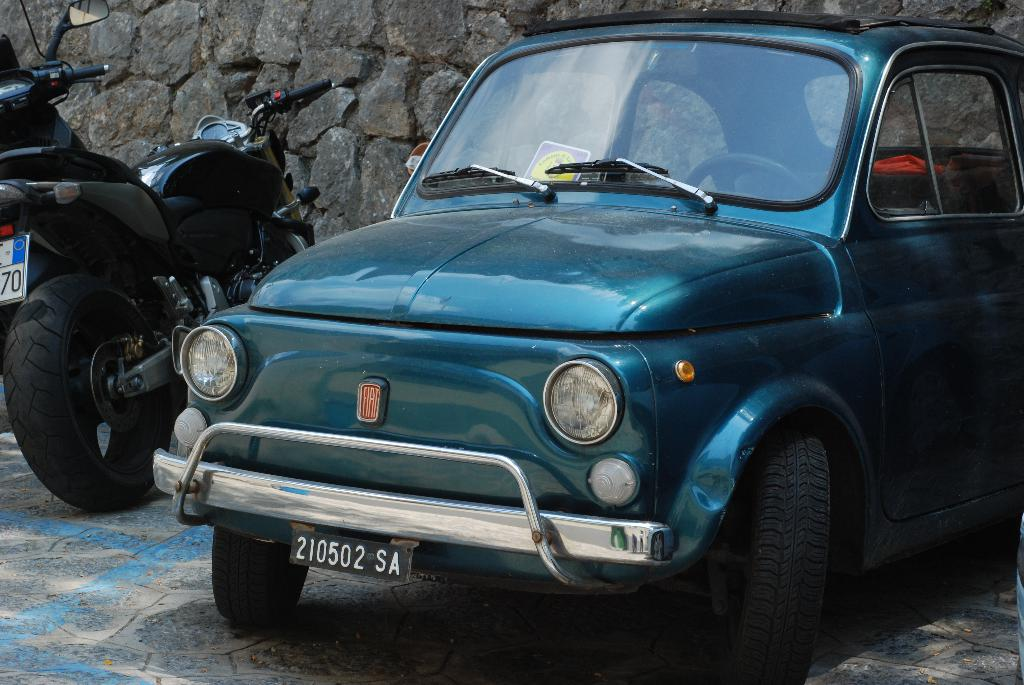Car: (68, 14, 1024, 672)
